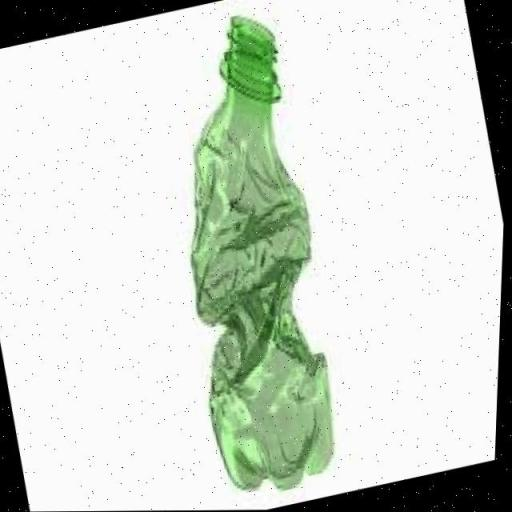plastic: (122, 0, 378, 503)
